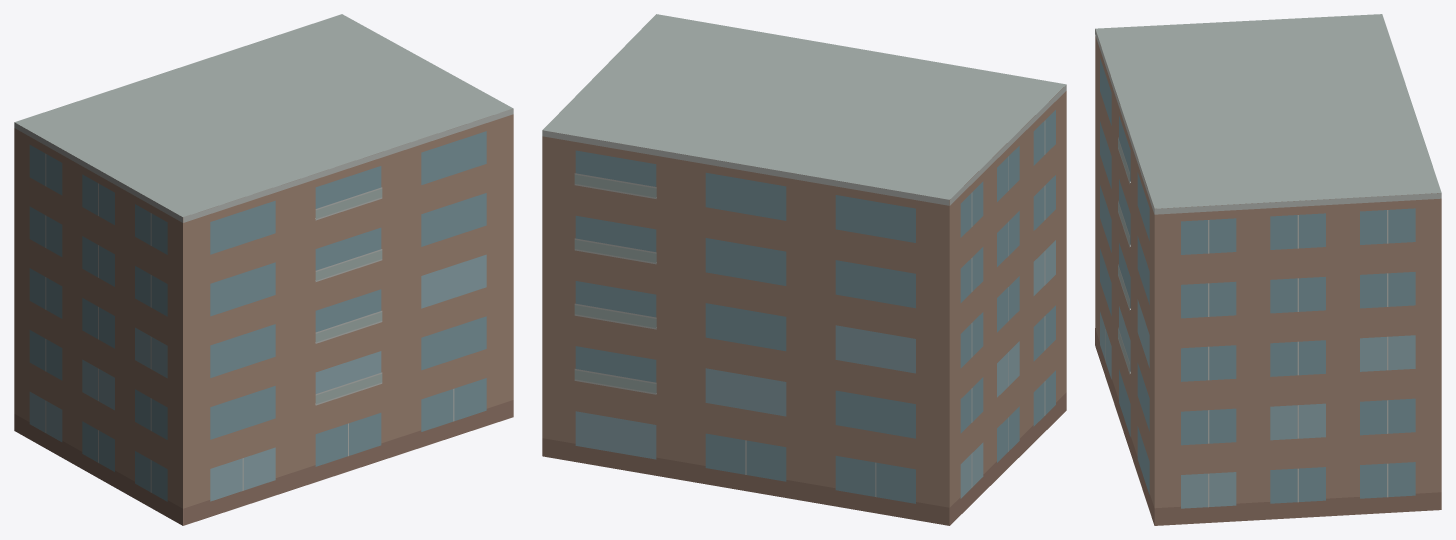
Rendered from survey-upis-32575880.glb.
The picture shows the model from 3 angles, left to right: view 1: azimuth 30°, elevation 25°; view 2: azimuth 150°, elevation 25°; view 3: azimuth 270°, elevation 25°; orthographic projection. The views are drawn at different scales.
Visible parts, largest first — view 1: survey-upis-32575880.tmp; view 2: survey-upis-32575880.tmp; view 3: survey-upis-32575880.tmp.
Part boxes in pixels (<box>): survey-upis-32575880.tmp: <box>14,14,513,525</box>; survey-upis-32575880.tmp: <box>542,14,1066,525</box>; survey-upis-32575880.tmp: <box>1095,14,1441,525</box>.
Size of the model in its own units: 17.4 by 13.2 by 13.08.
